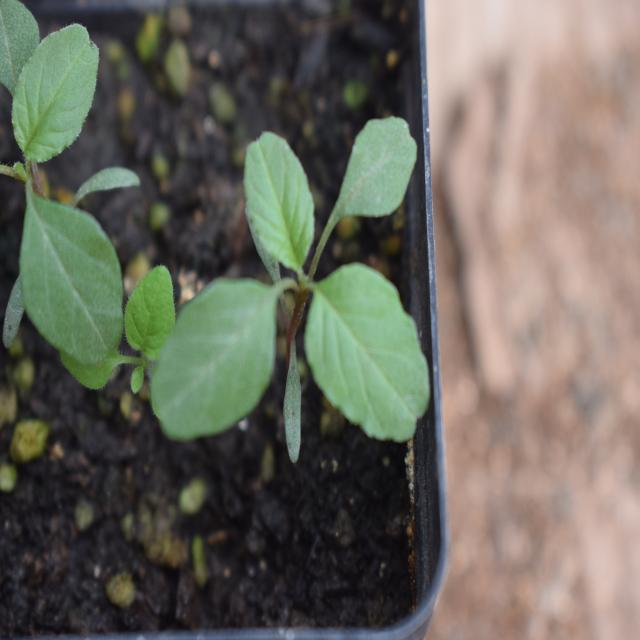pigweed: (151, 107, 446, 477), (0, 1, 119, 379)
